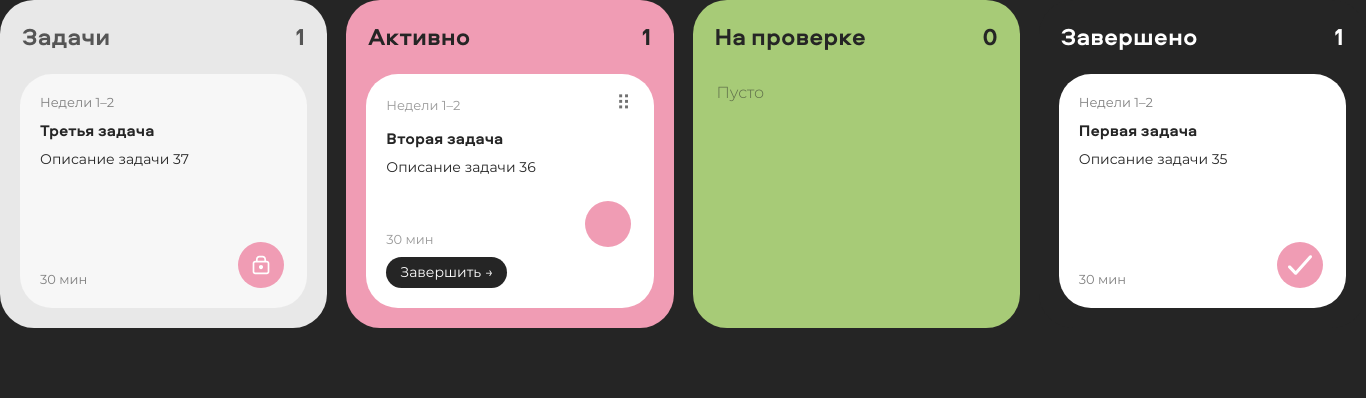
Test: KanbanBoard › назад в «Задачи» карточку не вернуть, отпускание мимо ничего не меняет
Press the mouse on the text "⠿" at (624, 103), box [616, 91, 631, 115]
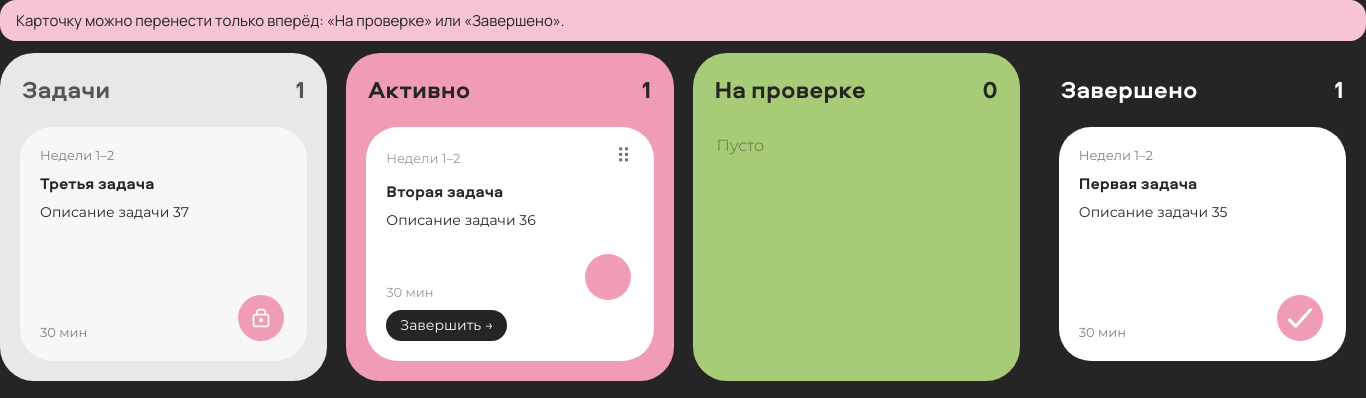
Expected: the message shows "только вперёд", [16, 10, 565, 31]
Press the mouse on the text "⠿" at (624, 156), box [616, 144, 631, 168]
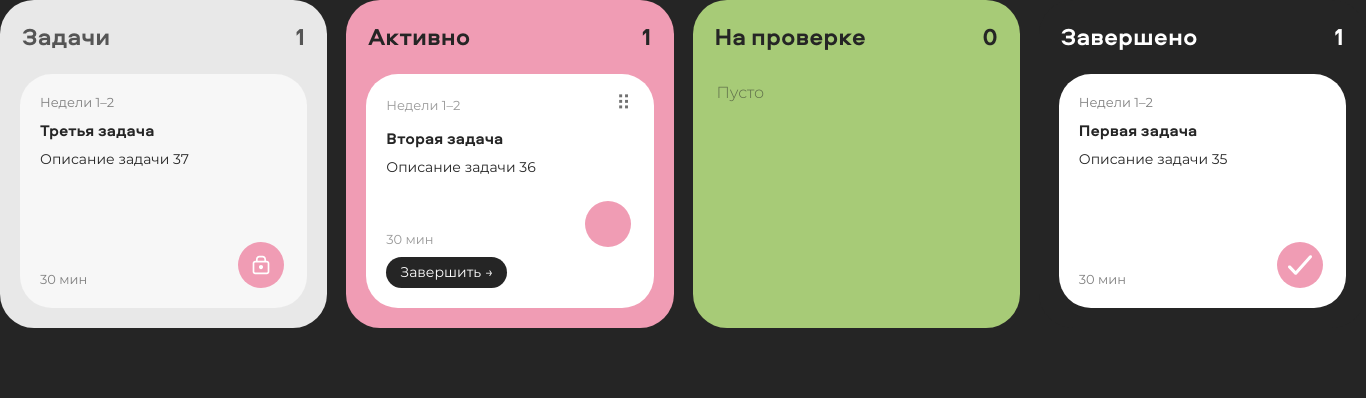
Expected: the message "Карточку можно перенести только вперёд: «На проверке» или «Завершено»." is gone
